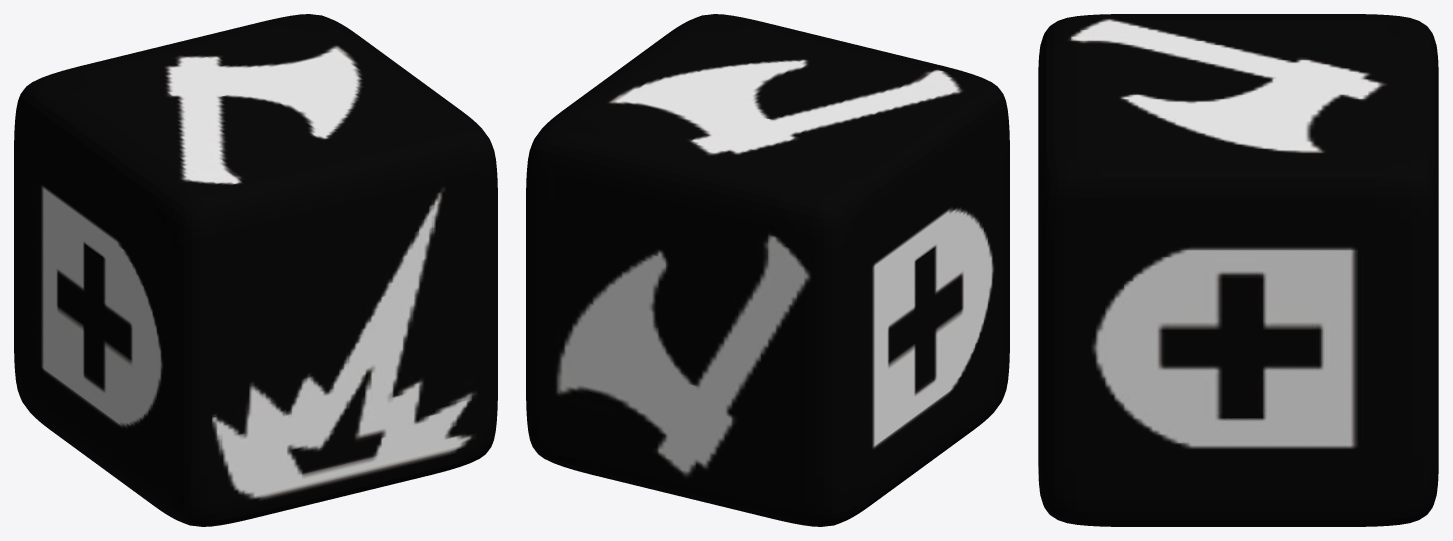
Rendered from who_knows_cruber.fbx.
3 renders of one model, left to right at view 1: azimuth 30°, elevation 25°; view 2: azimuth 150°, elevation 25°; view 3: azimuth 270°, elevation 25°, orthographic. The views are drawn at different scales.
Visible parts, largest first — view 1: Cube; view 2: Cube; view 3: Cube.
Boxes of the visible parts, <box> form: Cube: <box>14,14,497,526</box>; Cube: <box>526,14,1009,526</box>; Cube: <box>1038,14,1438,526</box>.
Bounding box in the file's own units: 200 × 200 × 200.
